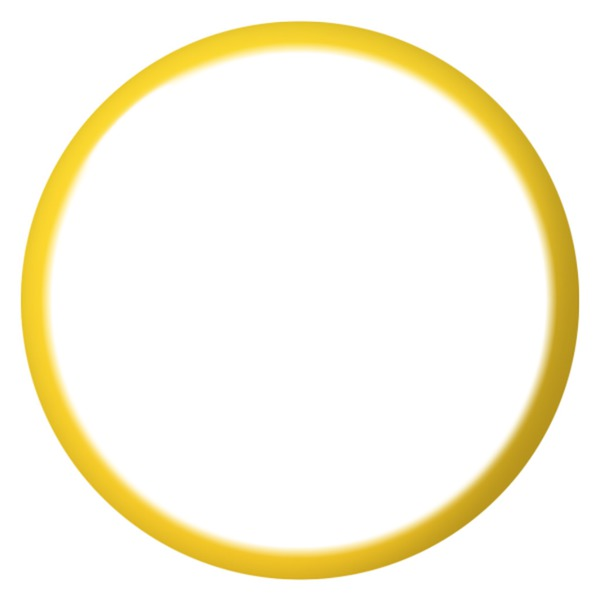circulo: (19, 21, 580, 581)
